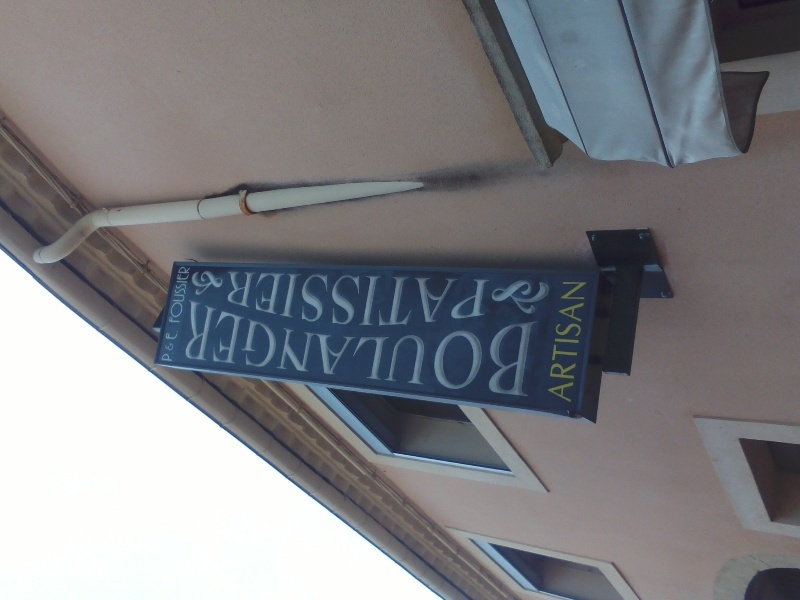text: (563, 278, 576, 406), (193, 297, 208, 400), (209, 297, 224, 400), (225, 297, 240, 400), (241, 297, 256, 400), (257, 297, 272, 400), (273, 297, 288, 400), (289, 297, 304, 400), (305, 297, 320, 400), (321, 297, 336, 400), (337, 297, 352, 400), (353, 297, 368, 400), (369, 297, 384, 400), (385, 297, 400, 400), (401, 297, 416, 400), (417, 297, 432, 400), (433, 297, 448, 400), (449, 297, 464, 400), (465, 297, 480, 400), (481, 297, 496, 400), (497, 297, 512, 400), (513, 297, 528, 400), (577, 278, 589, 406), (529, 297, 540, 400), (225, 267, 240, 333), (241, 267, 256, 333), (257, 267, 272, 333), (273, 267, 288, 333), (289, 267, 304, 333), (305, 267, 320, 333), (321, 267, 336, 333), (337, 267, 352, 333), (353, 267, 368, 333), (369, 267, 384, 333), (385, 267, 400, 333), (401, 267, 416, 333), (417, 267, 432, 333), (433, 267, 448, 333), (449, 267, 464, 333), (465, 267, 480, 333), (179, 267, 192, 326), (481, 267, 490, 333), (187, 297, 192, 400), (163, 331, 176, 364), (177, 331, 180, 364)
